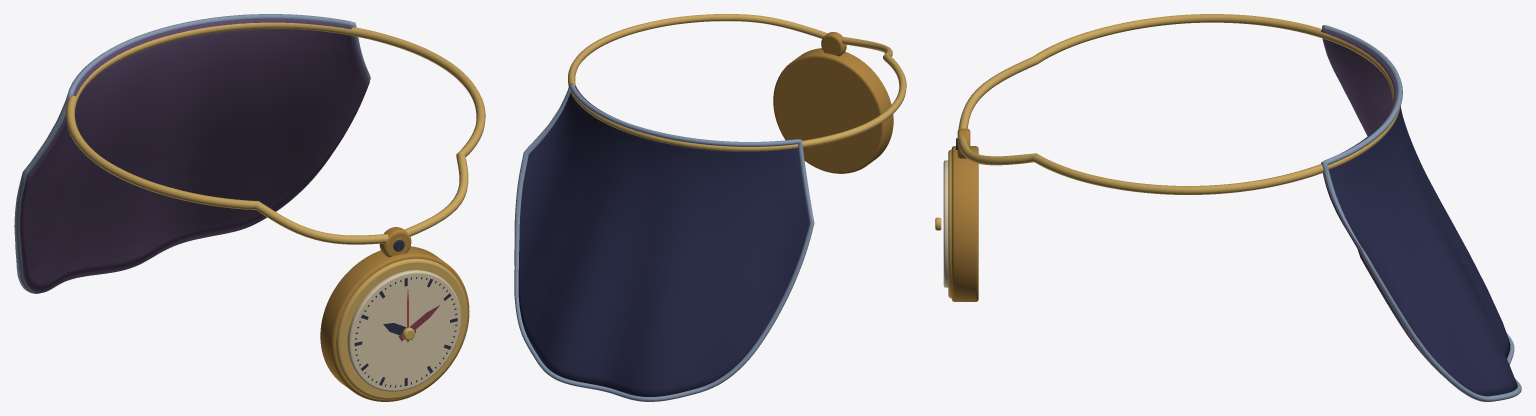
Rendered from mole-costume-hold-time.glb.
3 views of the same model, side by side, from view 1: azimuth 30°, elevation 25°; view 2: azimuth 150°, elevation 25°; view 3: azimuth 270°, elevation 25° (orthographic). The views are drawn at different scales.
Visible parts, largest first — view 1: Costume_Skinned; view 2: Costume_Skinned; view 3: Costume_Skinned.
Boxes of the visible parts, x1,y1,x2,y2 form: Costume_Skinned: (14,14,485,401); Costume_Skinned: (514,14,906,401); Costume_Skinned: (935,14,1521,401).
Size of the model in its own units: 1.74 by 1.29 by 2.45.
